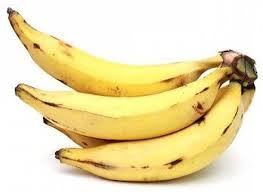banana: (2, 3, 259, 186)
